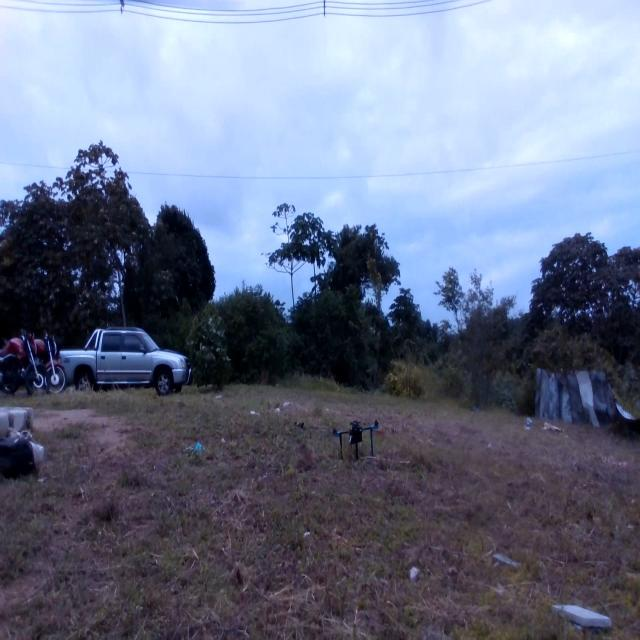-uav-: (327, 407, 384, 474)
